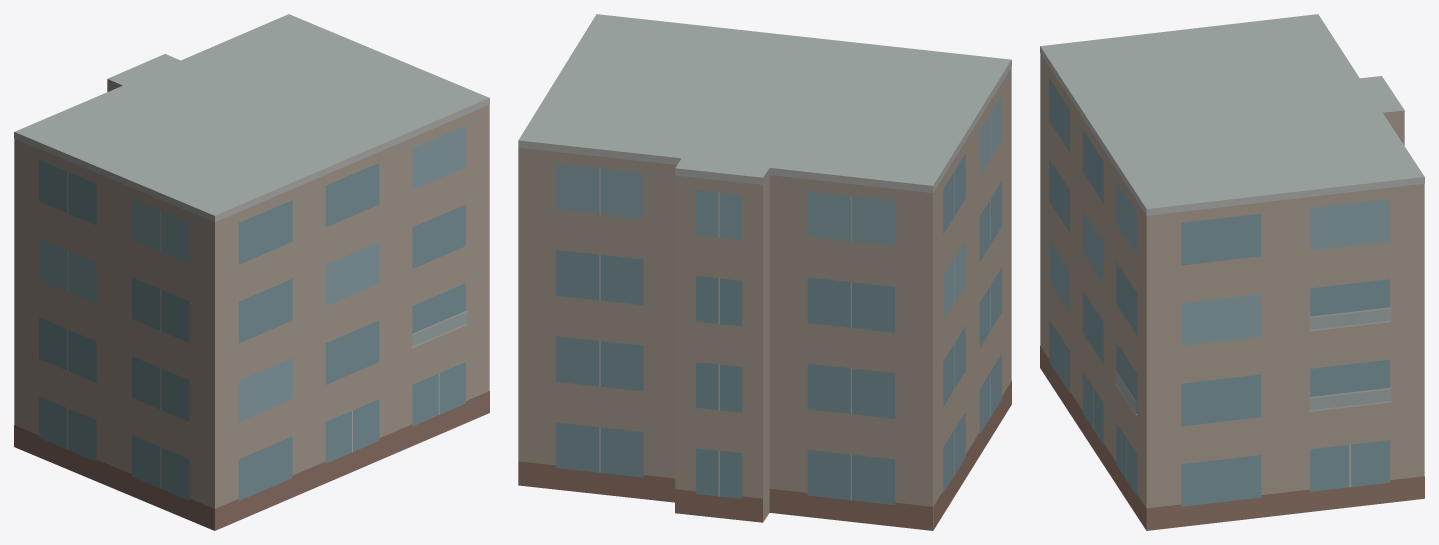
File: survey-upis-32703253.glb
3 views of the same model, side by side, from view 1: azimuth 30°, elevation 25°; view 2: azimuth 150°, elevation 25°; view 3: azimuth 270°, elevation 25° (orthographic). The views are drawn at different scales.
Parts seen in each view (by area): view 1: survey-upis-32703253.tmp; view 2: survey-upis-32703253.tmp; view 3: survey-upis-32703253.tmp.
Part boxes in pixels (box(x1,y1,x2,y2)): survey-upis-32703253.tmp: box(14, 14, 489, 530); survey-upis-32703253.tmp: box(518, 14, 1011, 530); survey-upis-32703253.tmp: box(1040, 14, 1424, 530).
Bounding box in the file's own units: 15.23 × 11.7 × 12.69.
